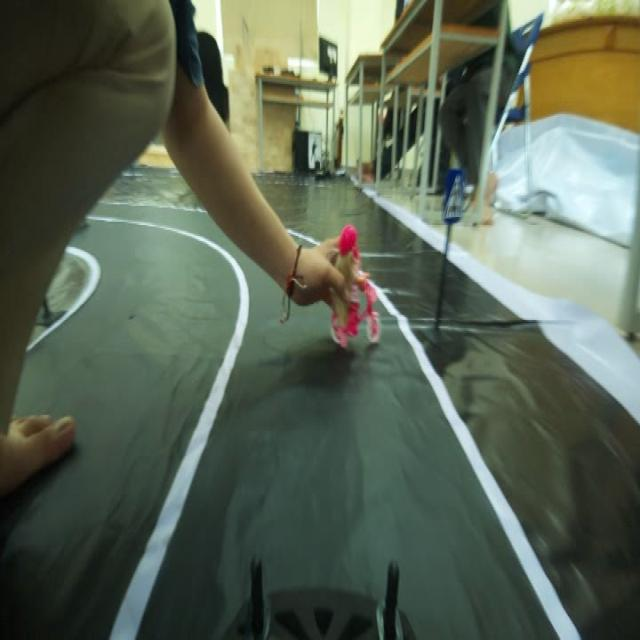crosswalk: (438, 158, 472, 235)
pedestrian: (325, 224, 387, 354)
